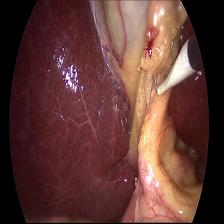Hook: (153, 37, 193, 102)
